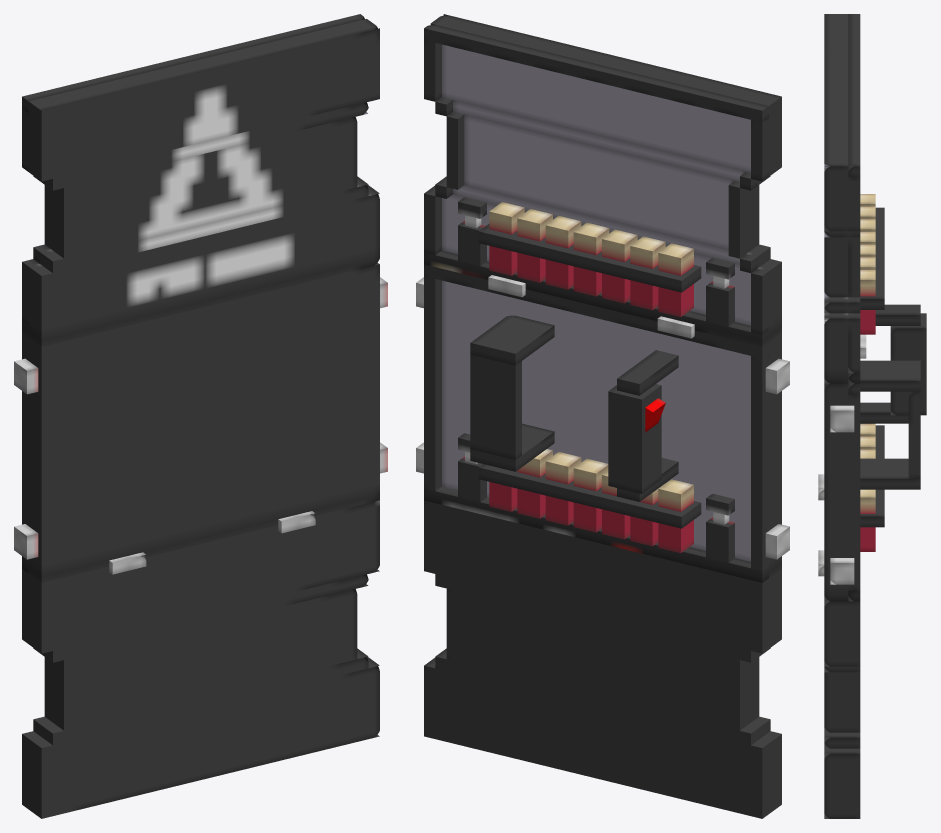
Rendered from hoshino_shield.obj.
The picture shows the model from 3 angles, left to right: view 1: azimuth 30°, elevation 25°; view 2: azimuth 150°, elevation 25°; view 3: azimuth 270°, elevation 25°; orthographic projection. The views are drawn at different scales.
Visible parts, largest first — view 1: middle_body, upper_body_1, lower_body_5, upper_body_5, lower_body_1, lower_body_3, upper_body_3, lower_body_4, upper_body_4, lower_body_2, upper_body_2, upper_edge_up (+3 smaller); view 2: middle_body, lower_body_5, lower_body_1, lower_body_3, upper_body_1, upper_body_3, upper_edge_up, handle_2_middle, handle_1_middle, lower_body_4, middle_edge_down, lower_body_2 (+39 smaller); view 3: upper_body_1, middle_body, lower_body_5, lower_body_1, lower_body_3, middle_edge_left, handle_2_middle, upper_edge_up, handle_1_upper, upper_body_5, handle_1_lower, upper_body_3 (+15 smaller).
Boxes of the visible parts, x1,y1,x2,y2 form: middle_body: (28, 263, 379, 582); upper_body_1: (28, 19, 379, 181); lower_body_5: (22, 657, 379, 818); upper_body_5: (28, 184, 379, 346); lower_body_1: (22, 500, 379, 653); lower_body_3: (44, 589, 357, 730); upper_body_3: (51, 117, 357, 258); lower_body_4: (33, 648, 368, 745); upper_body_4: (40, 176, 368, 273); lower_body_2: (33, 574, 368, 662); upper_body_2: (40, 102, 368, 190); upper_edge_up: (22, 14, 364, 112); middle_body: (442, 280, 781, 577); lower_body_5: (424, 658, 781, 818); lower_body_1: (424, 500, 781, 653); lower_body_3: (446, 588, 759, 730); upper_body_1: (430, 14, 781, 176); upper_body_3: (464, 114, 759, 253); upper_edge_up: (424, 25, 768, 122); handle_2_middle: (608, 384, 661, 493); handle_1_middle: (470, 354, 521, 459); lower_body_4: (435, 648, 770, 745); middle_edge_down: (424, 486, 768, 582); lower_body_2: (435, 574, 770, 662); upper_body_1: (824, 14, 848, 231); middle_body: (824, 319, 848, 601); lower_body_5: (824, 748, 860, 818); lower_body_1: (824, 597, 860, 666); lower_body_3: (824, 672, 860, 732); middle_edge_left: (848, 394, 860, 590); handle_2_middle: (890, 313, 926, 415); upper_edge_up: (848, 14, 860, 176); handle_1_upper: (860, 360, 920, 391); upper_body_5: (824, 313, 848, 383); handle_1_lower: (860, 458, 920, 489); upper_body_3: (824, 237, 848, 297).
Bounding box in the file's own units: 2 × 3.75 × 0.5625.
